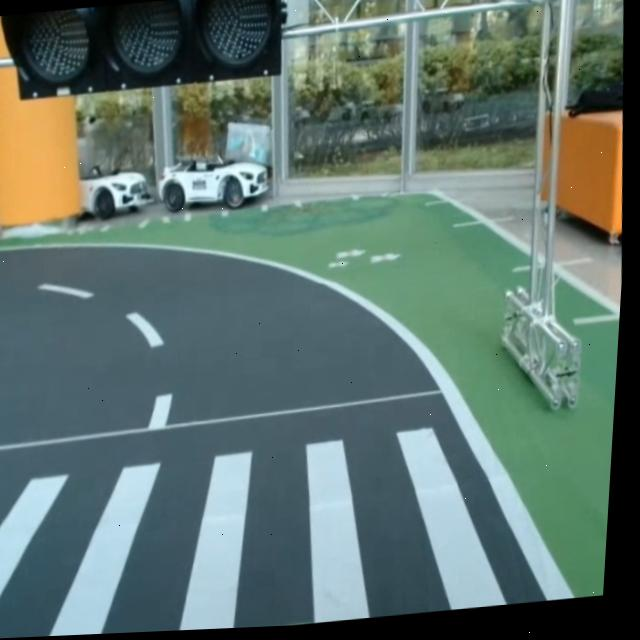traffic-light: (0, 0, 293, 106)
